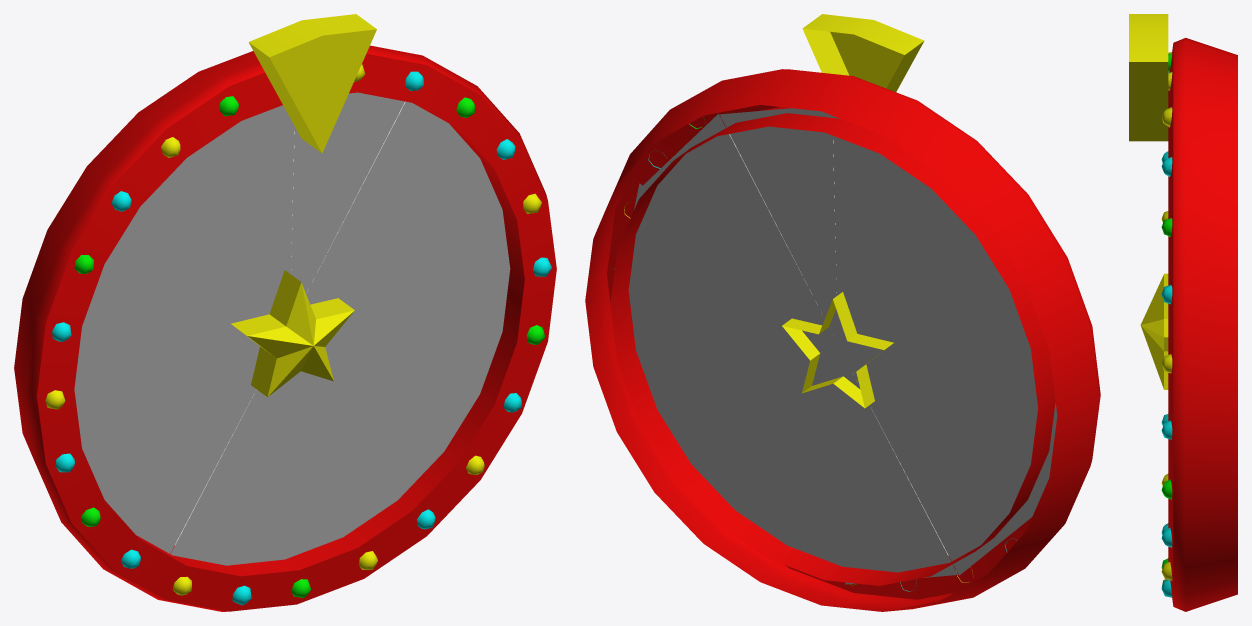
File: coin_wheel.fbx
3 renders of one model, left to right at view 1: azimuth 30°, elevation 25°; view 2: azimuth 150°, elevation 25°; view 3: azimuth 270°, elevation 25°, orthographic. The views are drawn at different scales.
Visible parts, largest first — view 1: wheel, s90, s40, s30, s120, s110, s70, s80, s60, s10, s50, s20 (+3 smaller); view 2: wheel, s40, s90, s30, s100, s70, s120, s80, s110, s50, s60, s10 (+3 smaller); view 3: wheel, pick, star.
Boxes of the visible parts, x1,y1,x2,y2 form: wheel: (14,45,556,611); s90: (306,101,483,304); s40: (96,350,258,553); s30: (170,381,287,565); s120: (318,168,510,311); s110: (329,278,508,400); s70: (282,371,391,559); s80: (319,342,475,503); s60: (76,252,264,373); s10: (184,105,294,300); s50: (74,335,259,479); s20: (112,159,273,315); wheel: (585,69,1100,611); s40: (838,345,1037,575); s90: (642,114,837,344); s30: (838,345,957,584); s100: (719,108,837,343); s70: (739,345,844,566); s120: (628,183,837,344); s80: (662,345,837,513); s110: (630,300,837,416); s50: (839,345,1057,502); s60: (838,276,1035,389); s10: (832,116,933,344); wheel: (1161,37,1237,611); pick: (1129,14,1168,141); star: (1140,273,1168,389).
Bounding box in the file's own units: 9.05 × 9.64 × 1.71.
